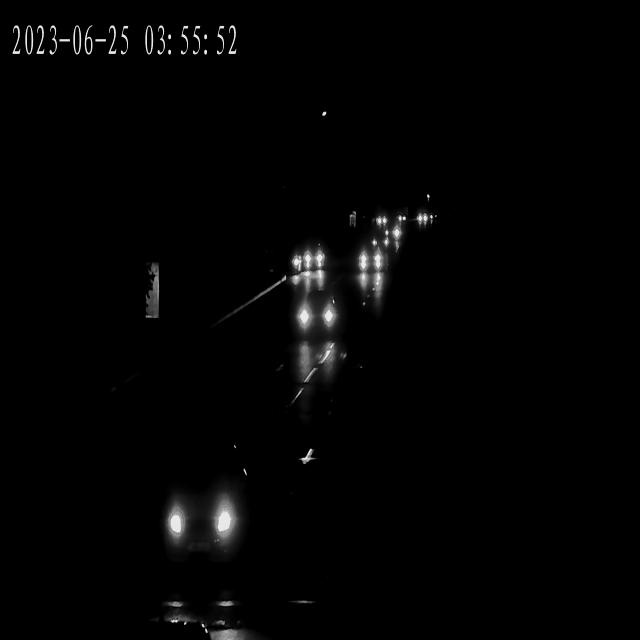Car: (158, 448, 253, 568), (298, 292, 342, 336), (294, 297, 337, 340), (356, 250, 384, 277), (355, 246, 383, 272), (300, 245, 326, 270), (298, 249, 325, 273), (300, 258, 325, 276), (369, 232, 391, 250), (381, 223, 402, 241), (378, 221, 399, 238), (414, 211, 433, 226), (369, 213, 386, 228), (372, 214, 389, 228), (392, 210, 406, 223)
